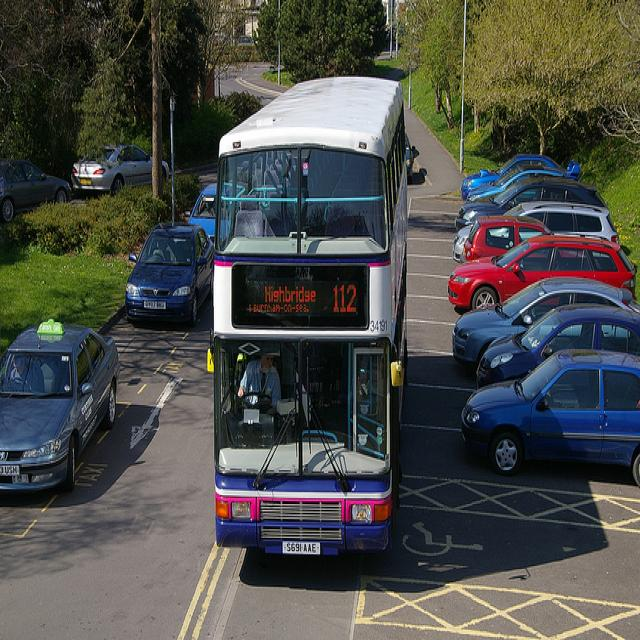Vehicle: (216, 73, 412, 555), (458, 348, 640, 483), (2, 324, 121, 493), (452, 278, 640, 370), (448, 233, 639, 310), (476, 304, 640, 390), (124, 220, 213, 326), (454, 175, 608, 231), (71, 144, 170, 198), (459, 216, 555, 265), (1, 161, 73, 221), (466, 165, 568, 203), (405, 125, 415, 178)
